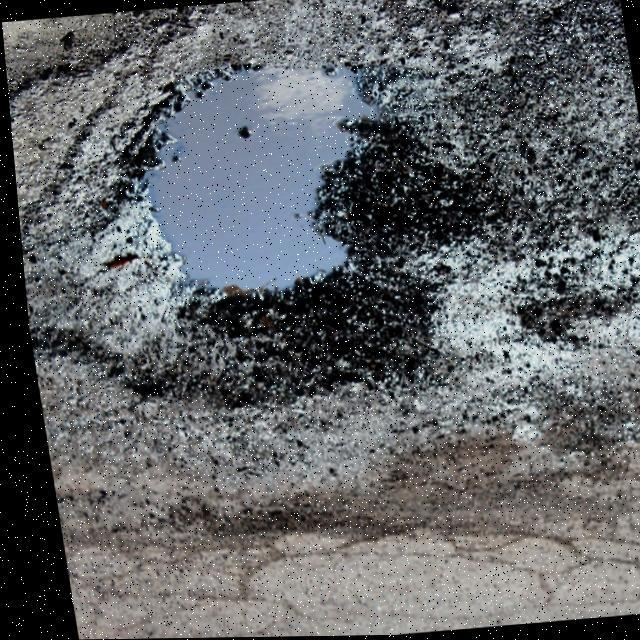pothole: (70, 41, 412, 387)
